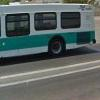Bus: (2, 1, 99, 57)
